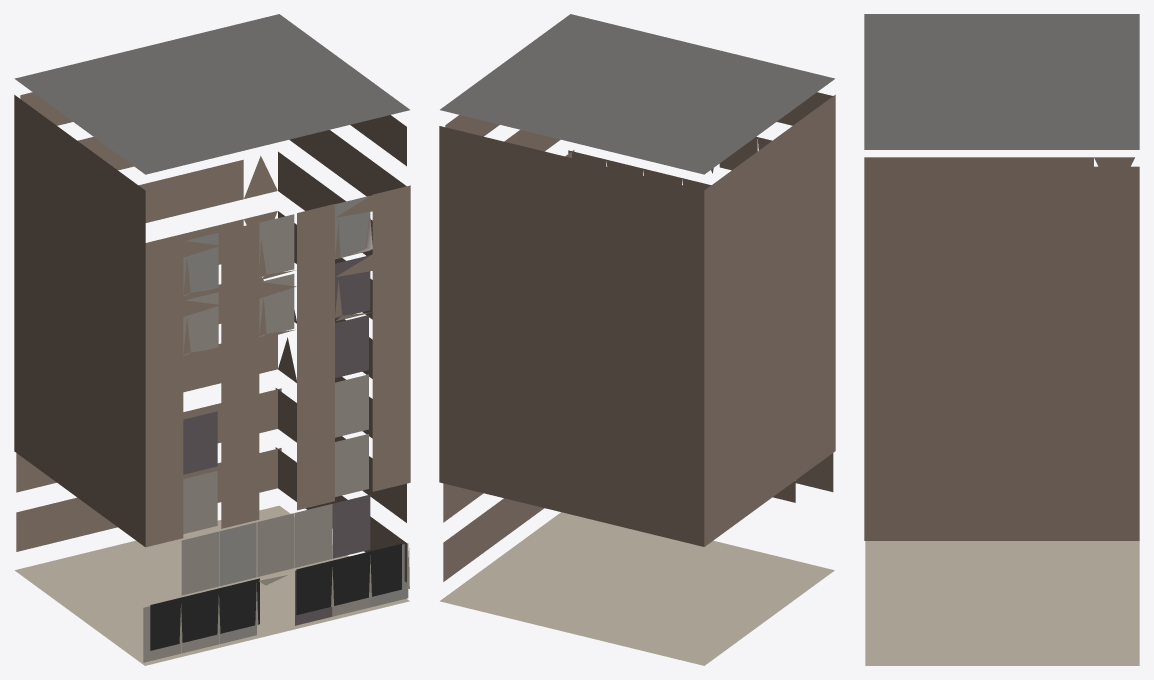
File: downtown_medium_lod2.glb
The picture shows the model from 3 angles, left to right: view 1: azimuth 30°, elevation 25°; view 2: azimuth 150°, elevation 25°; view 3: azimuth 270°, elevation 25°; orthographic projection. The views are drawn at different scales.
Parts seen in each view (by area): view 1: downtown_medium_lod2; view 2: downtown_medium_lod2; view 3: downtown_medium_lod2.
Part boxes in pixels (x1,y1,x2,y2): downtown_medium_lod2: [14, 14, 410, 665]; downtown_medium_lod2: [439, 14, 835, 665]; downtown_medium_lod2: [864, 14, 1139, 665].
Bounding box in the file's own units: 14 × 24.8 × 12.
